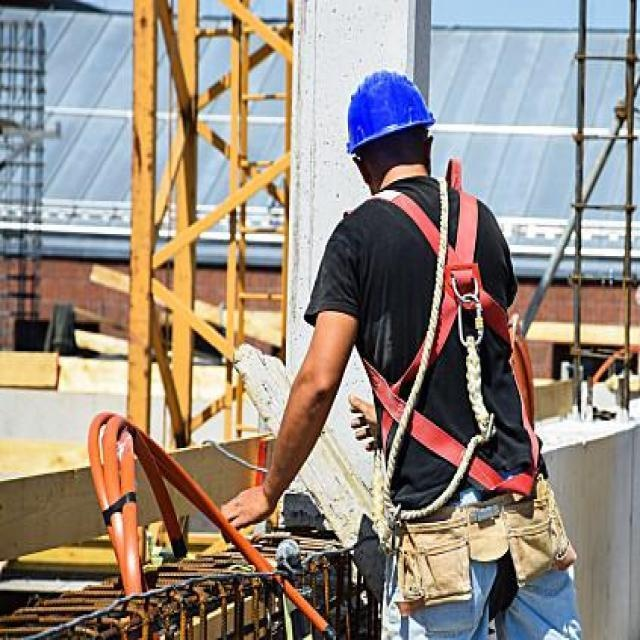Arnes_seguridad: (333, 175, 545, 514)
